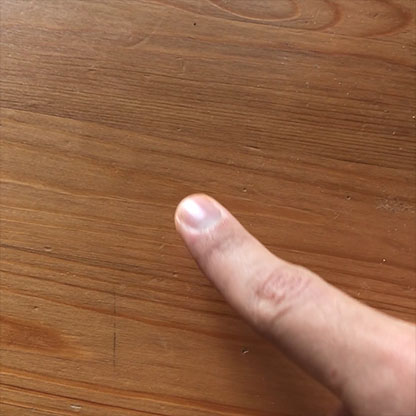fingertip: (174, 190, 234, 245)
